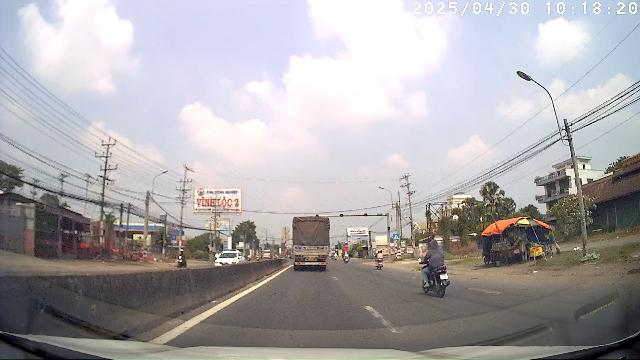423a-duong-nguoi-di-bo-sang-ngang-1: (393, 234, 399, 240)
